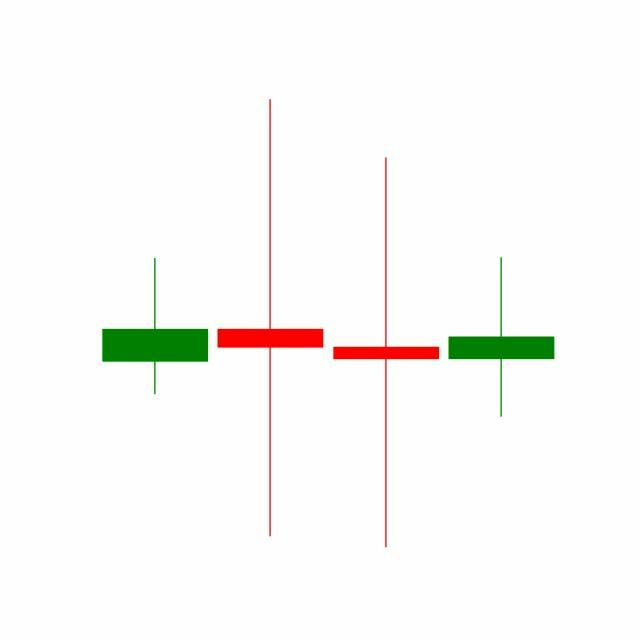Spinning Top: (444, 257, 560, 421)
